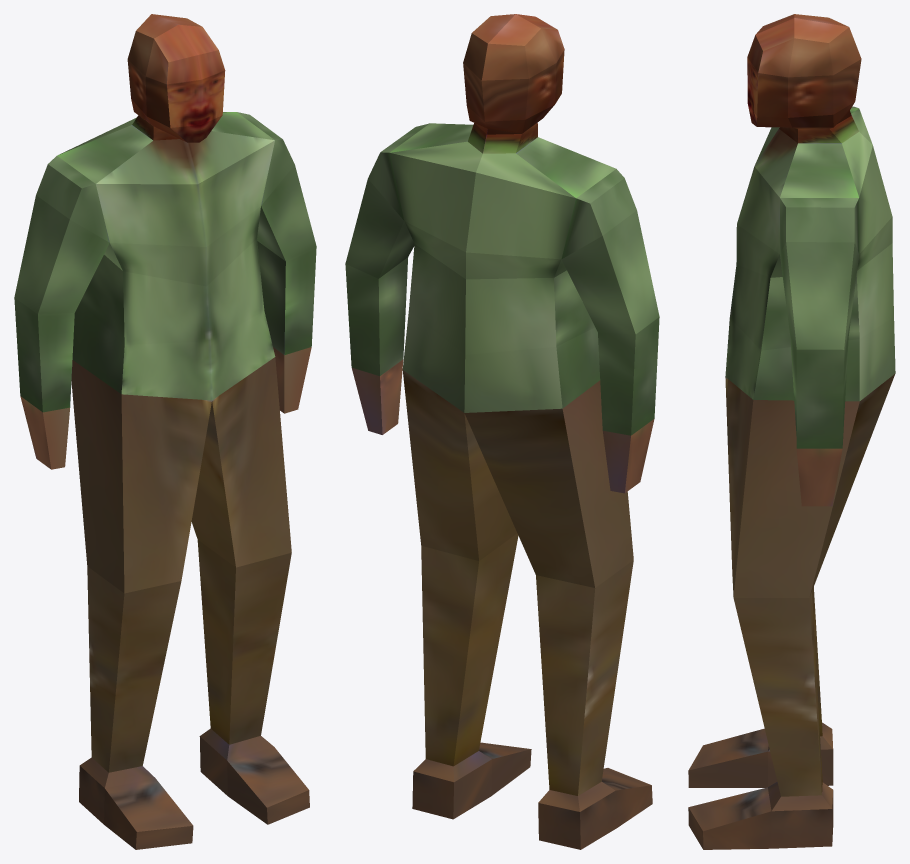
3 views of the same model, side by side, from view 1: azimuth 30°, elevation 25°; view 2: azimuth 150°, elevation 25°; view 3: azimuth 270°, elevation 25° (orthographic). The views are drawn at different scales.
Visible parts, largest first — view 1: 3dwalterwhite; view 2: 3dwalterwhite; view 3: 3dwalterwhite.
Boxes of the visible parts, x1=… form: 3dwalterwhite: x1=14, y1=14, x2=316, y2=849; 3dwalterwhite: x1=345, y1=14, x2=659, y2=849; 3dwalterwhite: x1=688, y1=14, x2=895, y2=849.
Size of the model in its own units: 2.59 by 6.85 by 1.63.
2 materials, 2 textured.
